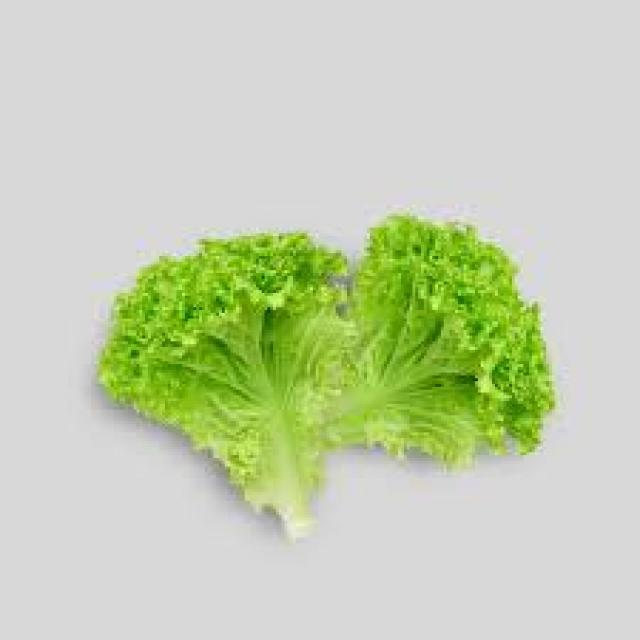Lettuce: (96, 225, 344, 538), (346, 214, 558, 466)
